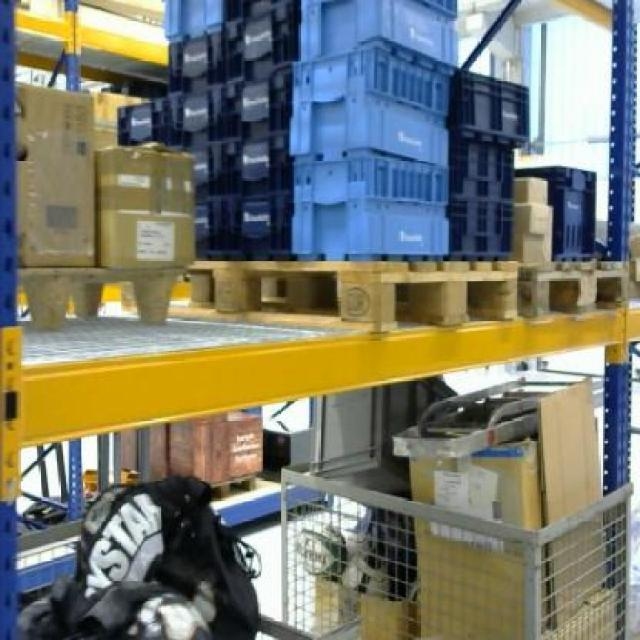box: (418, 446, 538, 639), (20, 81, 91, 267), (94, 144, 194, 272)
